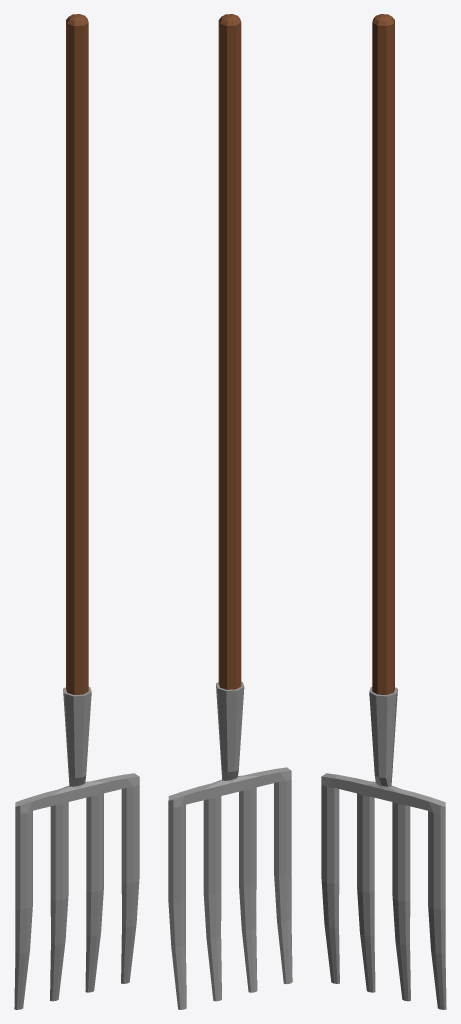
Rendered from fork01.gltf.
The picture shows the model from 3 angles, left to right: view 1: azimuth 30°, elevation 25°; view 2: azimuth 210°, elevation 25°; view 3: azimuth 330°, elevation 25°; orthographic projection.
Visible parts, largest first — view 1: Cylinder; view 2: Cylinder; view 3: Cylinder.
Part boxes in pixels (x1=…): Cylinder: x1=14, y1=14, x2=139, y2=1009; Cylinder: x1=168, y1=14, x2=292, y2=1009; Cylinder: x1=321, y1=14, x2=446, y2=1009.
Bounding box in the file's own units: 0.1634 × 1.24 × 0.0339.
Materials: 1 (1 with a texture image).
